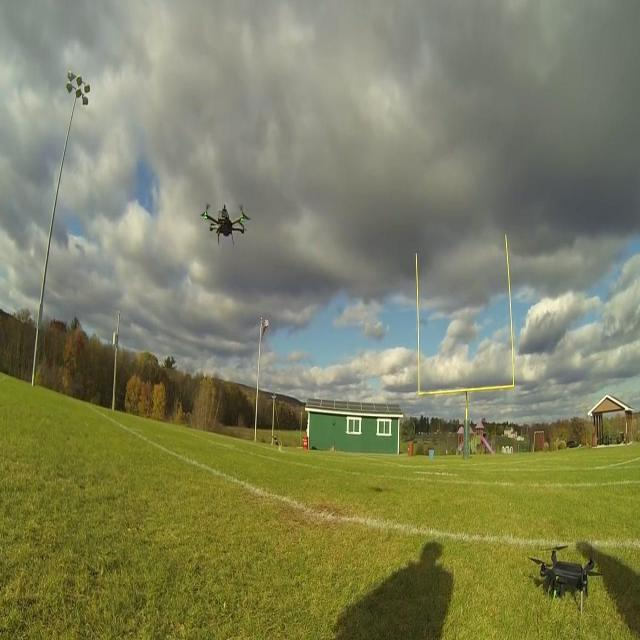UAV: (528, 546, 604, 618), (200, 202, 252, 245)
